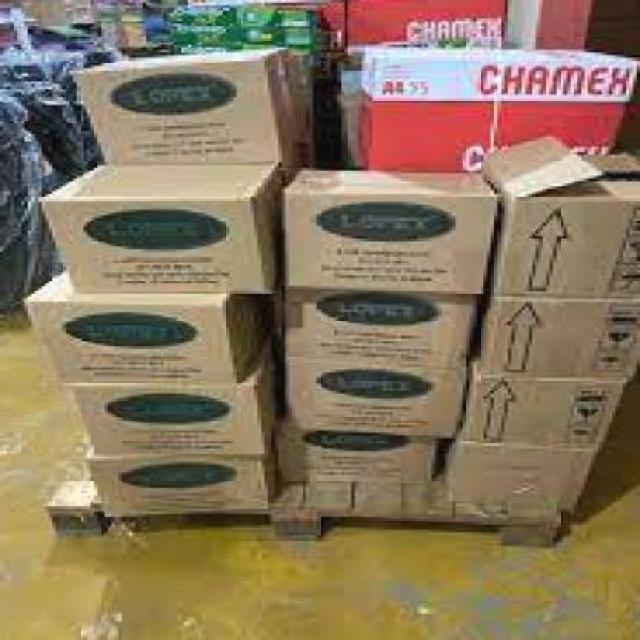-: (39, 160, 281, 295), (284, 168, 491, 296), (29, 273, 245, 387), (76, 53, 292, 163), (493, 145, 640, 297), (69, 382, 281, 455), (283, 294, 470, 365), (487, 295, 640, 380), (470, 368, 625, 450), (293, 368, 465, 436), (448, 440, 594, 519), (93, 453, 275, 511), (284, 434, 438, 488)
